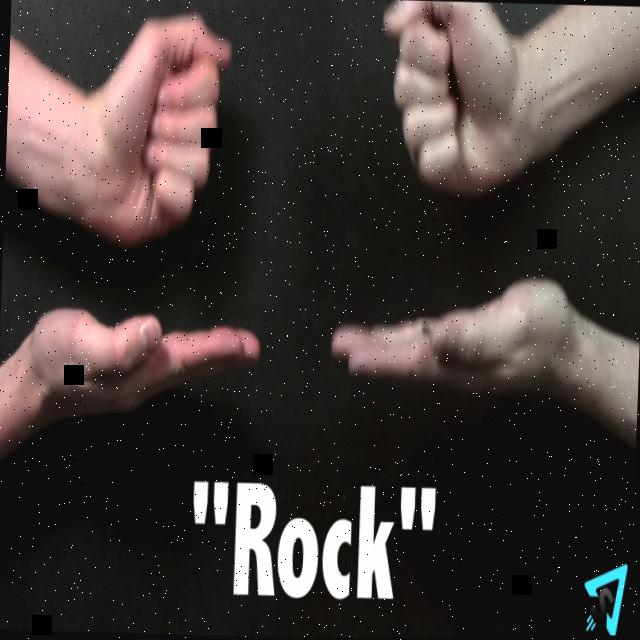Rock: (82, 5, 234, 245), (376, 0, 528, 197)
